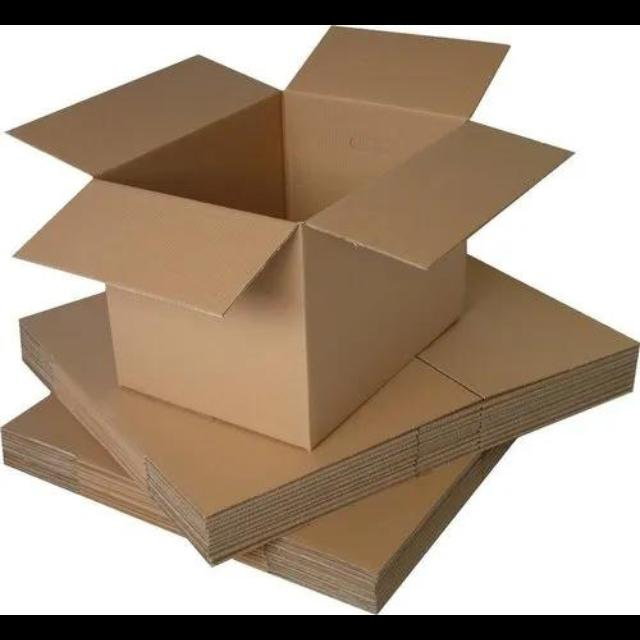papelão: (0, 26, 578, 454), (5, 251, 639, 614)
